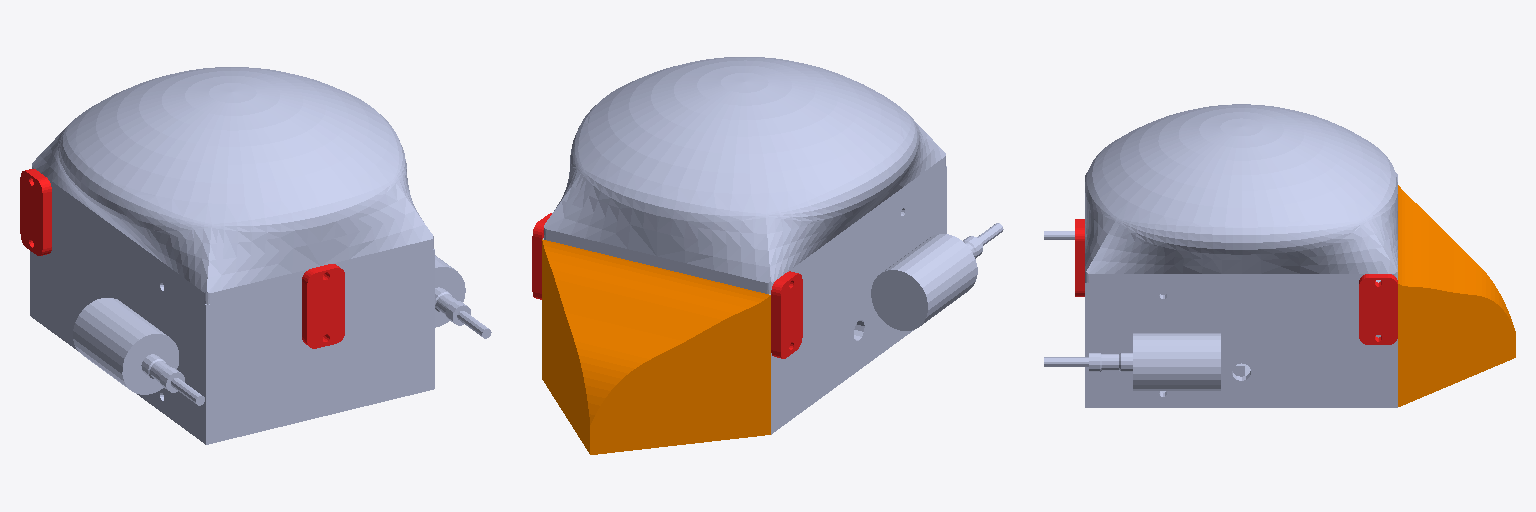
robot.urdf — robot_boat:
<?xml version="1.0"?>
<!-- This URDF was automatically created by SolidWorks to URDF Exporter! Originally created by [author] ([email redacted]) 
     Commit Version: 1.6.0-4-g7f85cfe  Build Version: 1.6.7995.38578
     For more information, please see http://wiki.ros.org/sw_urdf_exporter -->
<robot
  name="robot_boat">
  <link
    name="caja">
    <inertial>
      <origin
        xyz="-0.00350655617226021 0.0057870557154398 0.100314646324909"
        rpy="0 0 0" />
      <mass
        value="0.315668074424316" />
      <inertia
        ixx="0.00106952247168509"
        ixy="-6.35663584540256E-08"
        ixz="4.48722793894617E-07"
        iyy="0.00147003359417461"
        iyz="1.732567854706E-06"
        izz="0.000700072373673693" />
    </inertial>
    <visual>
      <origin
        xyz="0 0 0"
        rpy="0 0 0" />
      <geometry>
        <mesh
          filename="package://robot_boat/meshes/caja.STL" />
      </geometry>
      <material
        name="">
        <color
          rgba="0.792156862745098 0.819607843137255 0.933333333333333 1" />
      </material>
    </visual>
    <collision>
      <origin
        xyz="0 0 0"
        rpy="0 0 0" />
      <geometry>
        <mesh
          filename="package://robot_boat/meshes/caja.STL" />
      </geometry>
    </collision>
  </link>
  <link
    name="ganchos">
    <inertial>
      <origin
        xyz="-0.0508333333333334 -1.76145864720992E-05 -0.06"
        rpy="0 0 0" />
      <mass
        value="0.0107011061266654" />
      <inertia
        ixx="1.31036565577676E-06"
        ixy="1.52182167501141E-22"
        ixz="4.74293249589487E-24"
        iyy="3.76232518888044E-07"
        iyz="5.31604809467197E-23"
        izz="1.42091384800796E-06" />
    </inertial>
    <visual>
      <origin
        xyz="0 0 0"
        rpy="0 0 0" />
      <geometry>
        <mesh
          filename="package://robot_boat/meshes/ganchos.STL" />
      </geometry>
      <material
        name="">
        <color
          rgba="1 0.168627450980392 0.168627450980392 1" />
      </material>
    </visual>
    <collision>
      <origin
        xyz="0 0 0"
        rpy="0 0 0" />
      <geometry>
        <mesh
          filename="package://robot_boat/meshes/ganchos.STL" />
      </geometry>
    </collision>
  </link>
  <joint
    name="ganchos"
    type="fixed">
    <origin
      xyz="0.056509 -0.03 0.039668"
      rpy="1.5708 0 1.5708" />
    <parent
      link="caja" />
    <child
      link="ganchos" />
    <axis
      xyz="0 0 0" />
  </joint>
  <link
    name="cabeza">
    <inertial>
      <origin
        xyz="-1.47210003906893E-05 0.0334212800408631 -1.71087868535286E-05"
        rpy="0 0 0" />
      <mass
        value="0.195566086436615" />
      <inertia
        ixx="0.000521416706885964"
        ixy="-3.28003379479109E-08"
        ixz="4.29670857435128E-08"
        iyy="0.000848517982242861"
        iyz="-6.74994053841756E-08"
        izz="0.000443795962264069" />
    </inertial>
    <visual>
      <origin
        xyz="0 0 0"
        rpy="0 0 0" />
      <geometry>
        <mesh
          filename="package://robot_boat/meshes/cabeza.STL" />
      </geometry>
      <material
        name="">
        <color
          rgba="0.792156862745098 0.819607843137255 0.933333333333333 1" />
      </material>
    </visual>
    <collision>
      <origin
        xyz="0 0 0"
        rpy="0 0 0" />
      <geometry>
        <mesh
          filename="package://robot_boat/meshes/cabeza.STL" />
      </geometry>
    </collision>
  </link>
  <joint
    name="cabeza"
    type="fixed">
    <origin
      xyz="-0.07 0.01 -0.06"
      rpy="0 1.5707963267949 0" />
    <parent
      link="ganchos" />
    <child
      link="cabeza" />
    <axis
      xyz="0 0 0" />
  </joint>
  <link
    name="punta">
    <inertial>
      <origin
        xyz="3.27284758360044E-06 -0.00433760804571402 0.0273160015482659"
        rpy="0 0 0" />
      <mass
        value="0.0716405181094412" />
      <inertia
        ixx="5.44743781091978E-05"
        ixy="1.86774753169867E-09"
        ixz="6.76801340593279E-09"
        iyy="9.58237376978415E-05"
        iyz="-6.17934926455551E-06"
        izz="0.000101029420324114" />
    </inertial>
    <visual>
      <origin
        xyz="0 0 0"
        rpy="0 0 0" />
      <geometry>
        <mesh
          filename="package://robot_boat/meshes/punta.STL" />
      </geometry>
      <material
        name="">
        <color
          rgba="1 0.549019607843137 0 1" />
      </material>
    </visual>
    <collision>
      <origin
        xyz="0 0 0"
        rpy="0 0 0" />
      <geometry>
        <mesh
          filename="package://robot_boat/meshes/punta.STL" />
      </geometry>
    </collision>
  </link>
  <joint
    name="punta"
    type="fixed">
    <origin
      xyz="-0.0034915 0.02 0.018168"
      rpy="1.5708 0 0" />
    <parent
      link="caja" />
    <child
      link="punta" />
    <axis
      xyz="0 0 0" />
  </joint>
  <link
    name="motor1">
    <inertial>
      <origin
        xyz="0.0248078639783107 0 0"
        rpy="0 0 0" />
      <mass
        value="0.0338272475621472" />
      <inertia
        ixx="3.59775886940148E-06"
        ixy="-8.70714672756417E-24"
        ixz="-9.65307491393635E-22"
        iyy="1.02720341448678E-05"
        iyz="0"
        izz="1.02720341448678E-05" />
    </inertial>
    <visual>
      <origin
        xyz="0 0 0"
        rpy="0 0 0" />
      <geometry>
        <mesh
          filename="package://robot_boat/meshes/motor1.STL" />
      </geometry>
      <material
        name="">
        <color
          rgba="0.796078431372549 0.823529411764706 0.937254901960784 1" />
      </material>
    </visual>
    <collision>
      <origin
        xyz="0 0 0"
        rpy="0 0 0" />
      <geometry>
        <mesh
          filename="package://robot_boat/meshes/motor1.STL" />
      </geometry>
    </collision>
  </link>
  <joint
    name="motor1"
    type="fixed">
    <origin
      xyz="-0.078491 -0.1107 0.017262"
      rpy="-2.6816 0 -1.5708" />
    <parent
      link="caja" />
    <child
      link="motor1" />
    <axis
      xyz="0 0 0" />
  </joint>
  <link
    name="motor2">
    <inertial>
      <origin
        xyz="0.0248078639783108 -6.93889390390723E-18 0"
        rpy="0 0 0" />
      <mass
        value="0.0338272475621472" />
      <inertia
        ixx="3.59775886940148E-06"
        ixy="3.03672443546408E-22"
        ixz="-1.21326837735656E-21"
        iyy="1.02720341448678E-05"
        iyz="0"
        izz="1.02720341448678E-05" />
    </inertial>
    <visual>
      <origin
        xyz="0 0 0"
        rpy="0 0 0" />
      <geometry>
        <mesh
          filename="package://robot_boat/meshes/motor2.STL" />
      </geometry>
      <material
        name="">
        <color
          rgba="0.796078431372549 0.823529411764706 0.937254901960784 1" />
      </material>
    </visual>
    <collision>
      <origin
        xyz="0 0 0"
        rpy="0 0 0" />
      <geometry>
        <mesh
          filename="package://robot_boat/meshes/motor2.STL" />
      </geometry>
    </collision>
  </link>
  <joint
    name="motor2"
    type="fixed">
    <origin
      xyz="0.0715085089939226 -0.11070017409 0.0157968445519571"
      rpy="2.10502040509024 0 -1.5707963267949" />
    <parent
      link="caja" />
    <child
      link="motor2" />
    <axis
      xyz="0 0 0" />
  </joint>
</robot>

--- Facts derived from the render (not from the file) ---
Views: 3 orthographic renders of the robot side by side, from view 1: azimuth 30°, elevation 25°; view 2: azimuth 150°, elevation 25°; view 3: azimuth 270°, elevation 25°.
Model robot_boat with 6 links and 5 joints (5 fixed), rooted at caja, posed every joint at zero.
Links seen in each view (by area): view 1: cabeza, caja, motor1, ganchos, motor2; view 2: cabeza, punta, caja, motor1, ganchos; view 3: cabeza, caja, punta, motor2, ganchos.
Link boxes in pixels (bbox=[...]): cabeza: bbox=[32, 67, 433, 304]; caja: bbox=[30, 193, 434, 444]; motor1: bbox=[73, 298, 204, 405]; ganchos: bbox=[20, 169, 344, 348]; motor2: bbox=[435, 255, 491, 338]; cabeza: bbox=[544, 57, 945, 293]; punta: bbox=[542, 239, 770, 454]; caja: bbox=[543, 166, 946, 434]; motor1: bbox=[871, 223, 1003, 330]; ganchos: bbox=[532, 213, 802, 358]; cabeza: bbox=[1085, 104, 1397, 282]; caja: bbox=[1085, 280, 1397, 407]; punta: bbox=[1398, 185, 1515, 406]; motor2: bbox=[1044, 333, 1220, 390]; ganchos: bbox=[1075, 219, 1397, 344].
Bounding box of the posed robot: 0.1799 × 0.2407 × 0.1305 m (x, y, z).
Meshes: 6 distinct files referenced, 6 mesh visuals loaded (6 binary STL).
